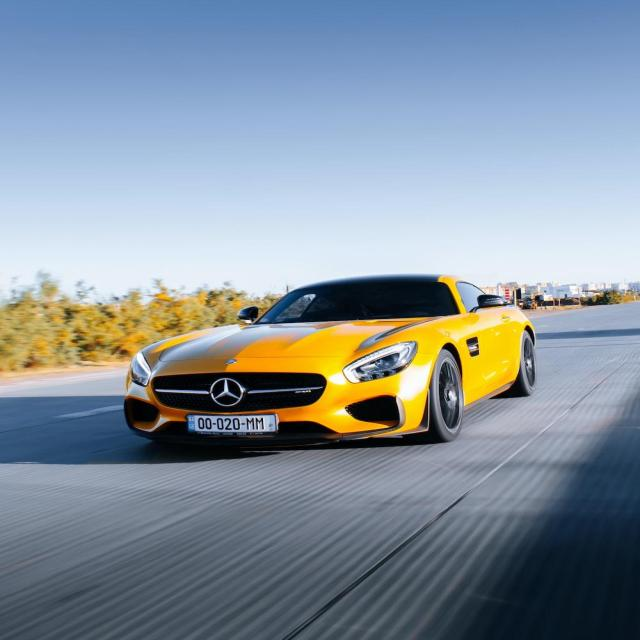cars5: (90, 269, 555, 458)
